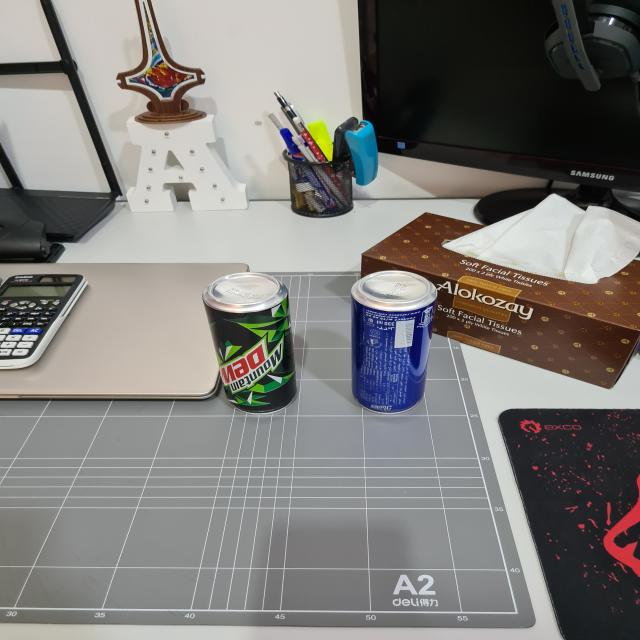non-organic waste: (204, 270, 304, 420), (344, 267, 436, 416)
